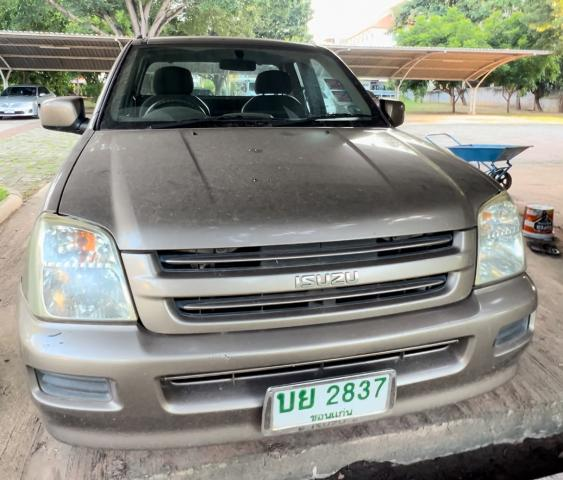pickup-truck: (17, 36, 542, 454)
